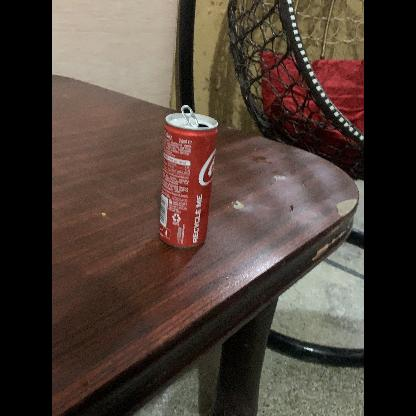Lid_Open: (178, 96, 212, 129)
Tin_Can: (154, 103, 218, 250)
